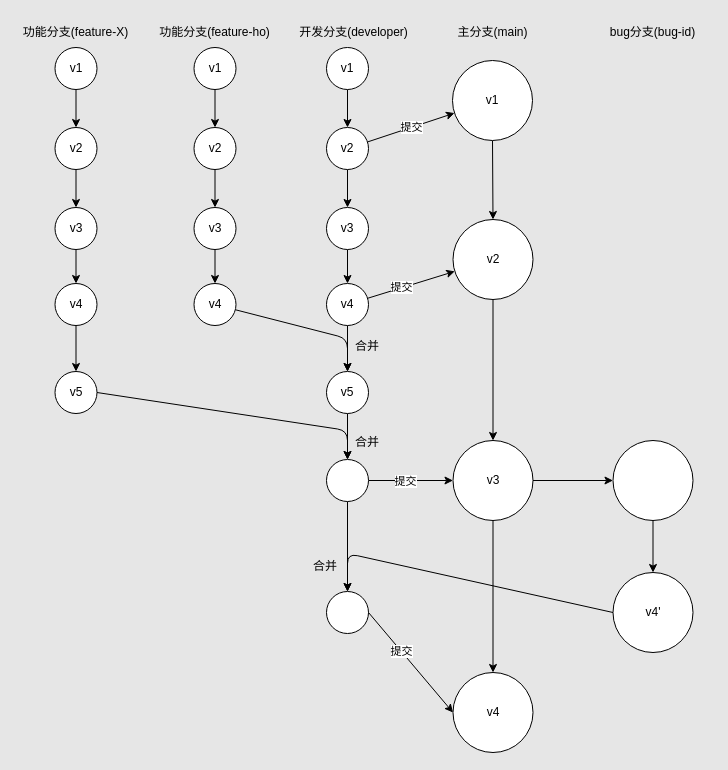
Image size: 728x770. Some labels were removed from this diagram. Here are the shapes that lost their labels. From the top down, the centre of each, then its label:
At point 347,480: "v6".
At point 652,480: "v3‘".
At point 347,612: "v7".
